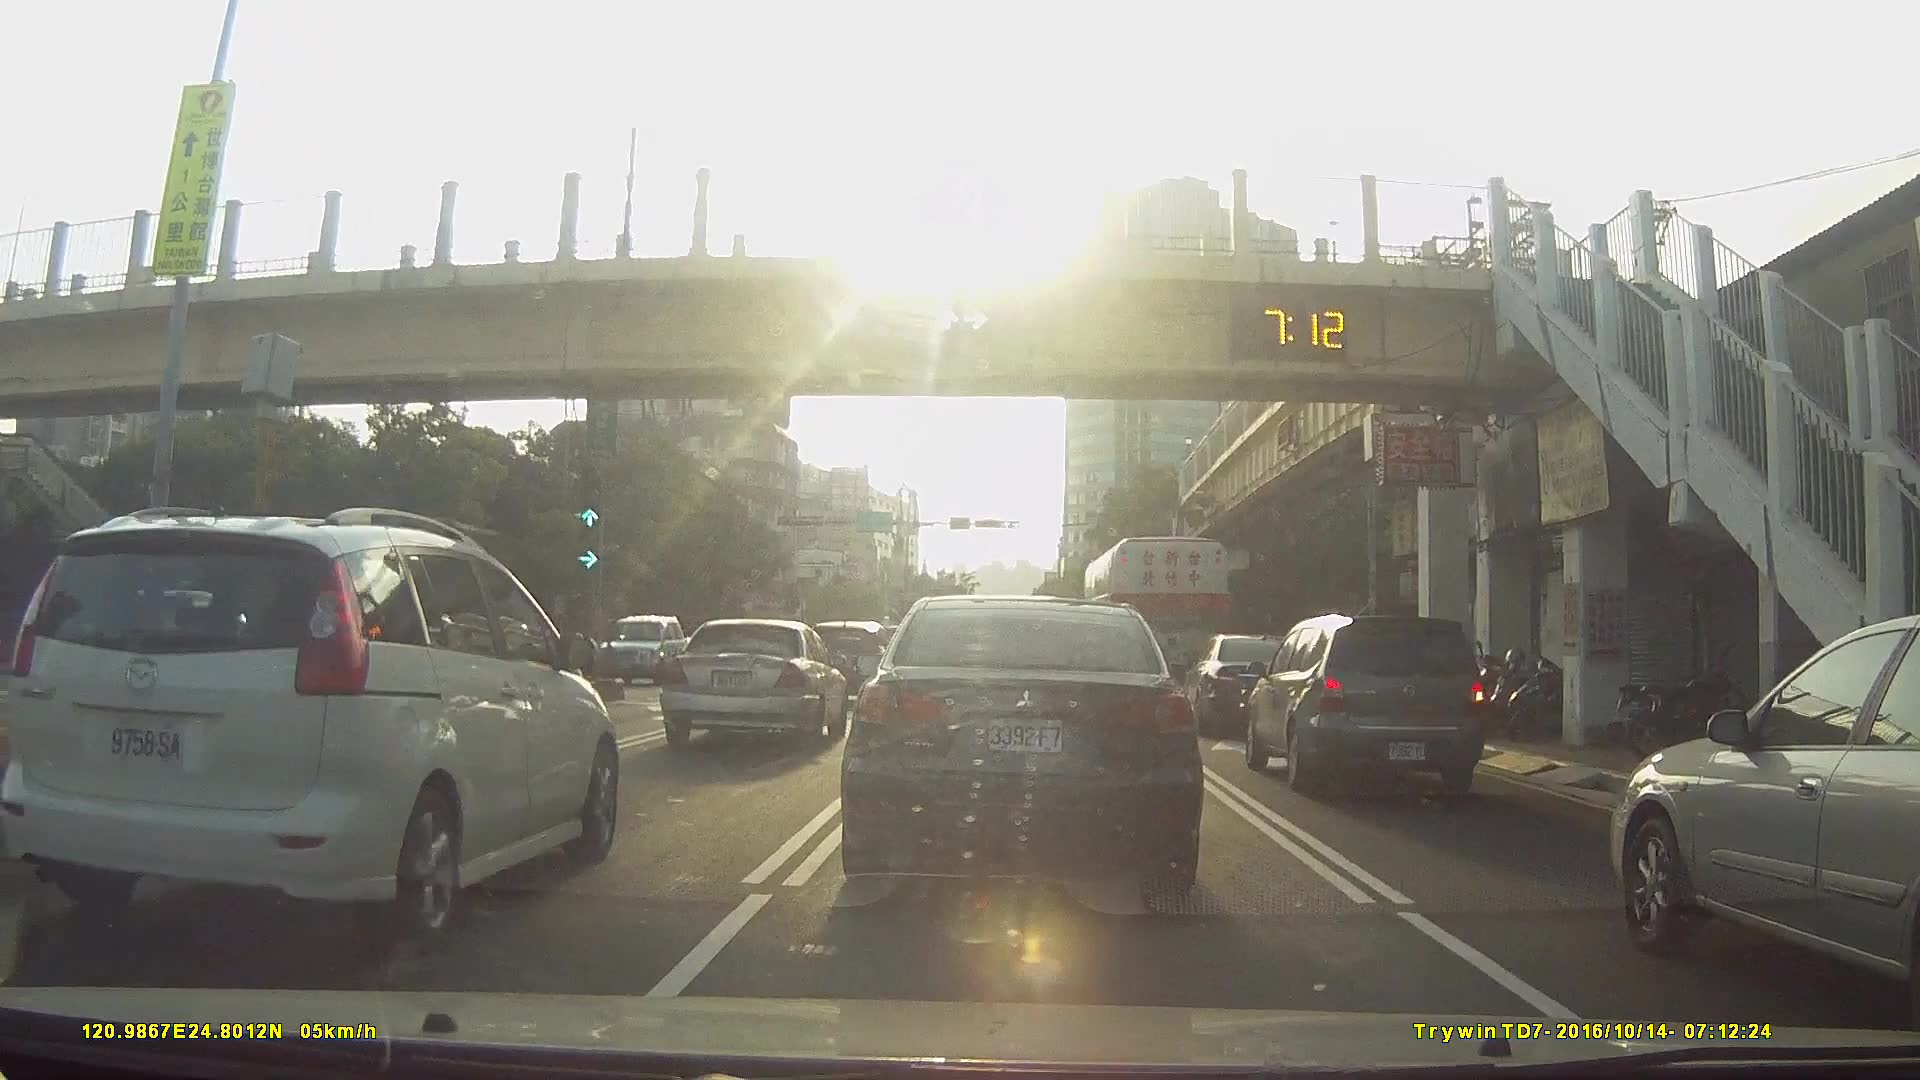vehicle: (5, 506, 621, 938), (1600, 612, 1920, 1026), (837, 589, 1200, 918), (1238, 611, 1485, 796), (659, 617, 848, 752), (1083, 535, 1232, 703), (1176, 630, 1302, 733), (779, 611, 872, 694), (589, 611, 694, 683)
